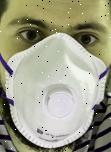with_mask: (2, 1, 111, 152)
